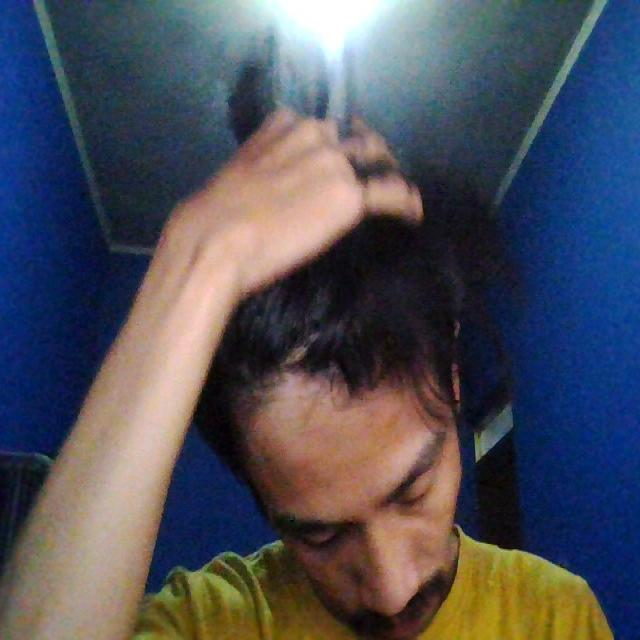movement: (122, 99, 518, 634)
